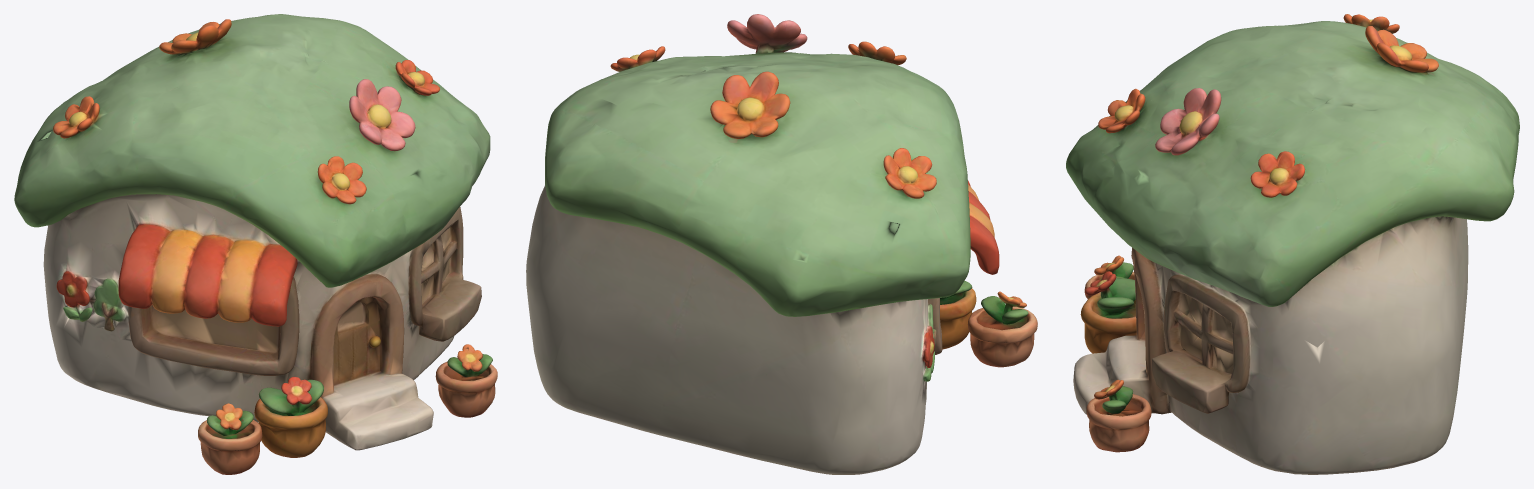
The model's file is builder_shop.glb.
3 views of the same model, side by side, from view 1: azimuth 30°, elevation 25°; view 2: azimuth 150°, elevation 25°; view 3: azimuth 270°, elevation 25° (orthographic). The views are drawn at different scales.
Parts seen in each view (by area): view 1: tripo_node_86ac8409-ce16-4367-a5b4-ea393ef46a82; view 2: tripo_node_86ac8409-ce16-4367-a5b4-ea393ef46a82; view 3: tripo_node_86ac8409-ce16-4367-a5b4-ea393ef46a82.
Part boxes in pixels (<box>): tripo_node_86ac8409-ce16-4367-a5b4-ea393ef46a82: <box>14,14,497,474</box>; tripo_node_86ac8409-ce16-4367-a5b4-ea393ef46a82: <box>526,14,1037,474</box>; tripo_node_86ac8409-ce16-4367-a5b4-ea393ef46a82: <box>1066,14,1519,474</box>.
Bounding box in the file's own units: 0.9995 × 0.7486 × 0.8862.
Materials: 1 (1 with a texture image).
